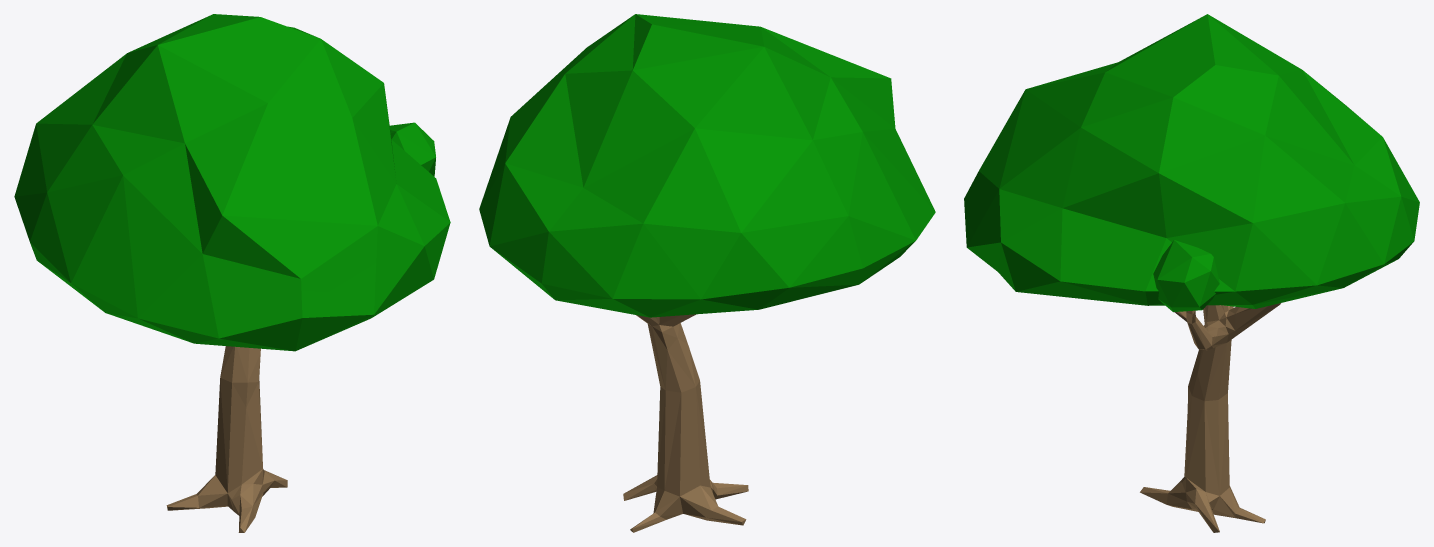
File: Laubbaum_toterBaum_LOD.fbx
3 renders of one model, left to right at view 1: azimuth 30°, elevation 25°; view 2: azimuth 150°, elevation 25°; view 3: azimuth 270°, elevation 25°, orthographic. The views are drawn at different scales.
Parts seen in each view (by area): view 1: BaumKrone2_LOD0, BaumStamm_LOD0, BaumKrone_LOD0; view 2: BaumKrone2_LOD0, BaumStamm_LOD0; view 3: BaumKrone2_LOD0, BaumStamm_LOD0, BaumKrone_LOD0.
Part boxes in pixels (bbox=[...]): BaumKrone2_LOD0: bbox=[14, 14, 450, 351]; BaumStamm_LOD0: bbox=[166, 346, 287, 532]; BaumKrone_LOD0: bbox=[389, 122, 435, 176]; BaumKrone2_LOD0: bbox=[479, 14, 935, 317]; BaumStamm_LOD0: bbox=[623, 314, 748, 532]; BaumKrone2_LOD0: bbox=[964, 14, 1419, 308]; BaumStamm_LOD0: bbox=[1140, 303, 1280, 532]; BaumKrone_LOD0: bbox=[1153, 240, 1219, 312].
Size of what is drawn, in the model's own units: 107 by 129 by 116.
